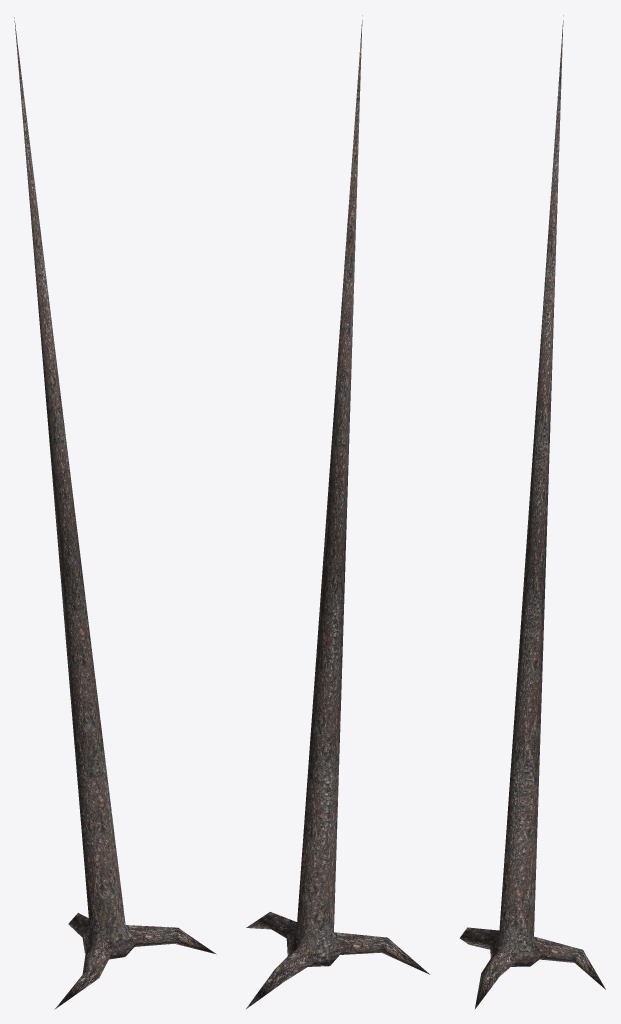
File: pine.gltf
3 views of the same model, side by side, from view 1: azimuth 30°, elevation 25°; view 2: azimuth 150°, elevation 25°; view 3: azimuth 270°, elevation 25° (orthographic). The views are drawn at different scales.
Parts seen in each view (by area): view 1: Spruce; view 2: Spruce; view 3: Spruce.
Part boxes in pixels (<box>): Spruce: <box>14,17,216,1009</box>; Spruce: <box>246,15,429,1008</box>; Spruce: <box>460,15,605,1008</box>.
Size of what is drawn, in the model's own units: 2.13 by 11.51 by 1.64.
1 material, 1 textured.
